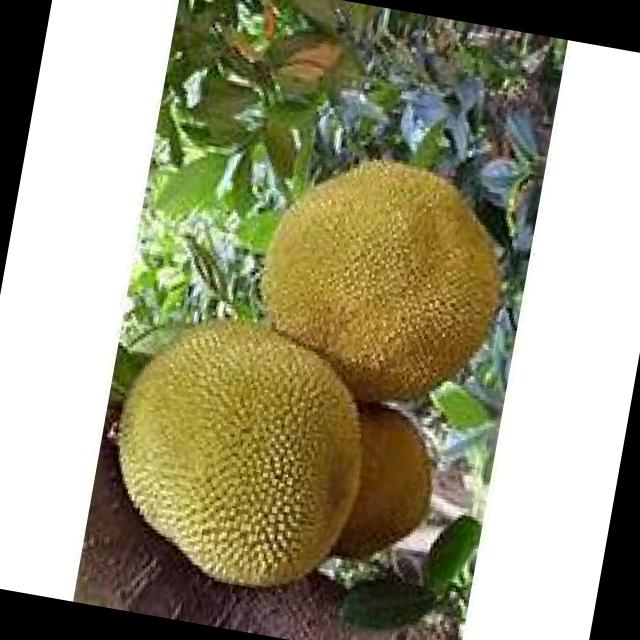Fruit: (80, 284, 404, 620), (225, 118, 540, 434)
